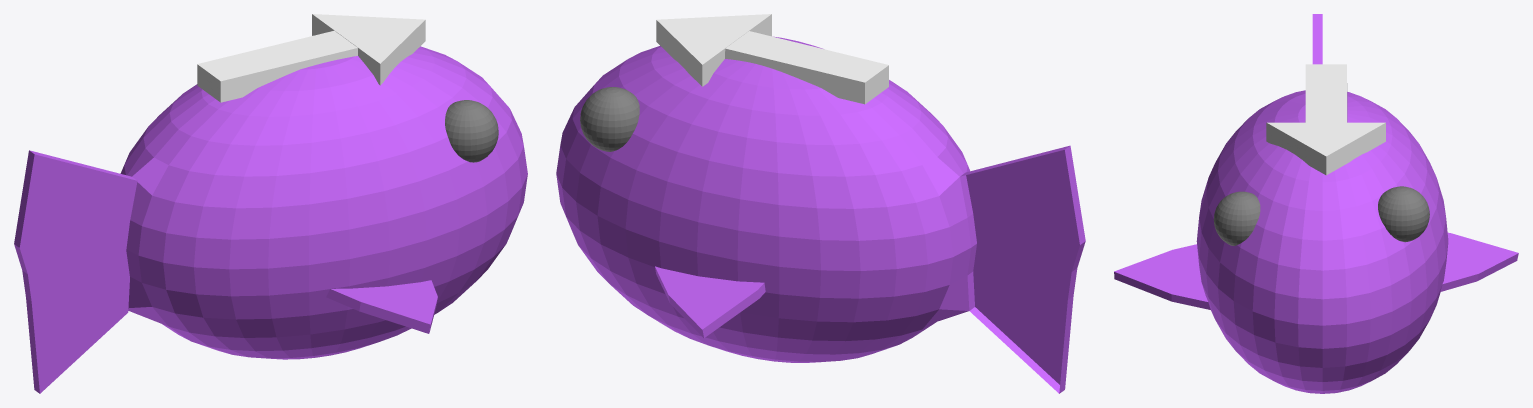
The model's file is SmallFishPurple.fbx.
3 views of the same model, side by side, from view 1: azimuth 30°, elevation 25°; view 2: azimuth 150°, elevation 25°; view 3: azimuth 270°, elevation 25° (orthographic). The views are drawn at different scales.
Visible parts, largest first — view 1: Сфера.003; view 2: Сфера.003; view 3: Сфера.003.
Part boxes in pixels (x1,y1,x2,y2): Сфера.003: [14, 14, 527, 393]; Сфера.003: [556, 14, 1085, 393]; Сфера.003: [1114, 14, 1518, 393].
Size of the model in its own units: 338 by 190 by 270.
